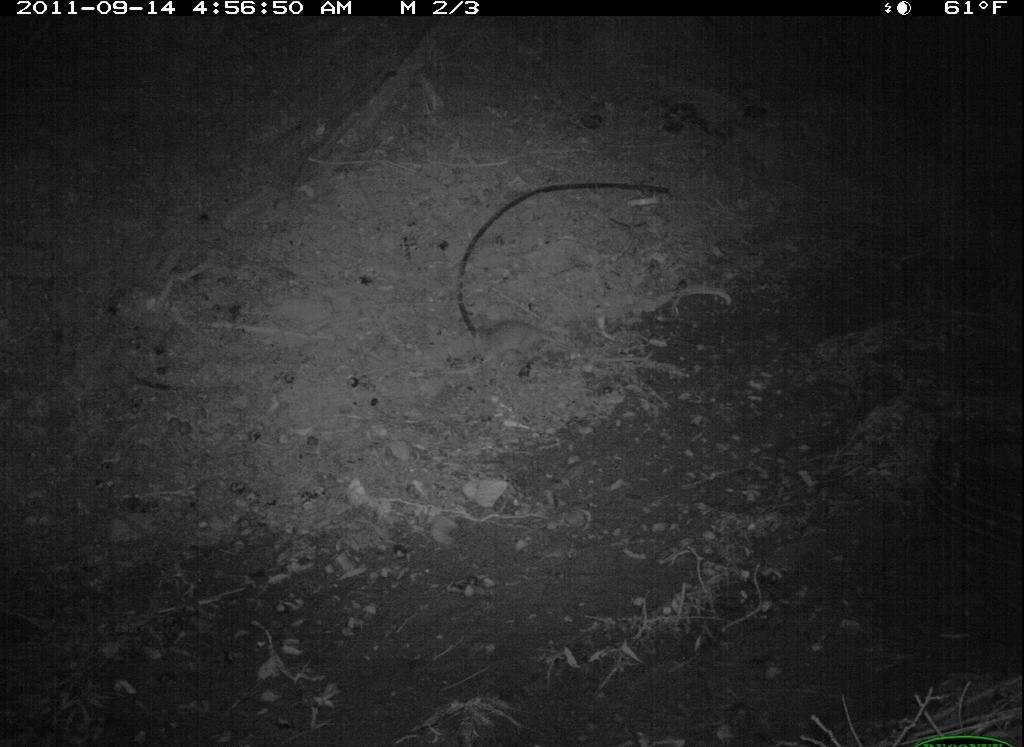opossum: (461, 304, 610, 376)
